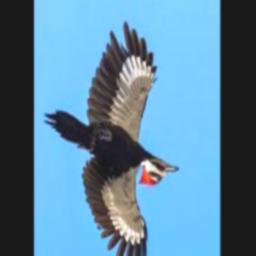Woodpecker: (44, 21, 180, 256)
